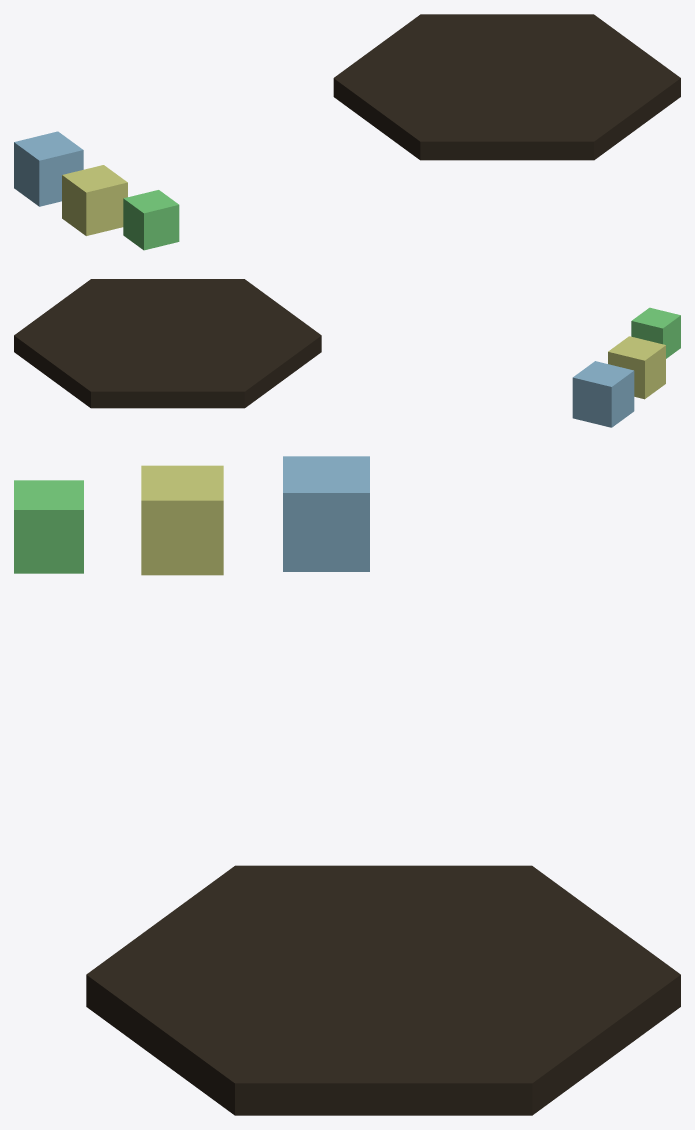
File: MaterialTestAssets.fbx
The picture shows the model from 3 angles, top to bottom: view 1: azimuth 30°, elevation 25°; view 2: azimuth 150°, elevation 25°; view 3: azimuth 270°, elevation 25°; orthographic projection. The views are drawn at different scales.
Visible parts, largest first — view 1: Cylinder, ResearchBuilding, EconomyBuilding, MilitaryBuilding; view 2: Cylinder, ResearchBuilding, EconomyBuilding, MilitaryBuilding; view 3: Cylinder, ResearchBuilding, EconomyBuilding, MilitaryBuilding.
Part boxes in pixels (bbox=[...]): Cylinder: bbox=[333, 14, 680, 160]; ResearchBuilding: bbox=[14, 131, 83, 206]; EconomyBuilding: bbox=[62, 165, 127, 235]; MilitaryBuilding: bbox=[123, 190, 179, 250]; Cylinder: bbox=[14, 279, 321, 408]; ResearchBuilding: bbox=[572, 361, 634, 427]; EconomyBuilding: bbox=[608, 336, 665, 399]; MilitaryBuilding: bbox=[631, 307, 680, 358]; Cylinder: bbox=[86, 865, 680, 1115]; ResearchBuilding: bbox=[283, 456, 369, 571]; EconomyBuilding: bbox=[141, 465, 223, 575]; MilitaryBuilding: bbox=[14, 480, 83, 573].
Bounding box in the file's own units: 4.17 × 0.5016 × 2.24.
